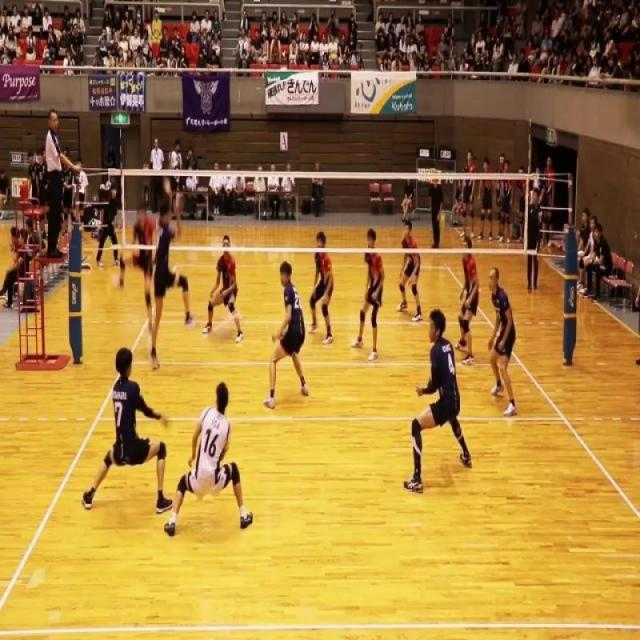volleyball: (210, 311, 243, 344)
